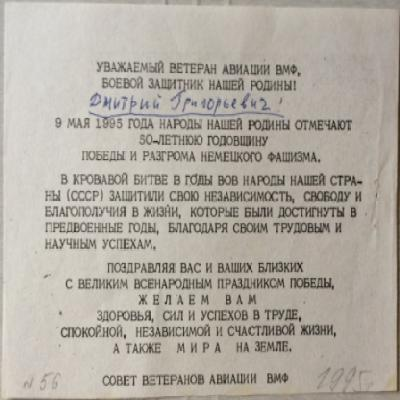document: (4, 5, 400, 396)
